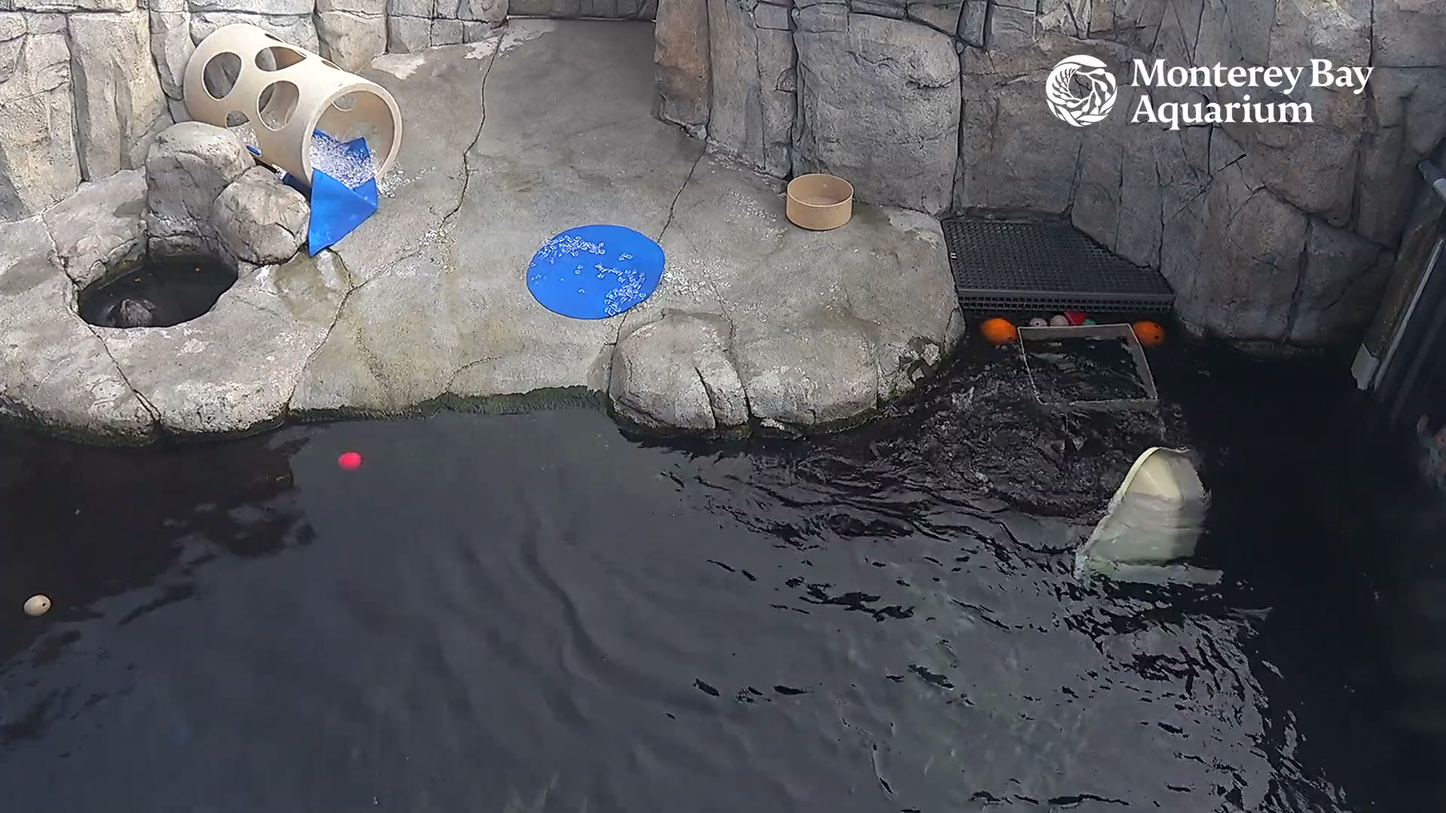Southern Sea Otter: (109, 283, 174, 336)
